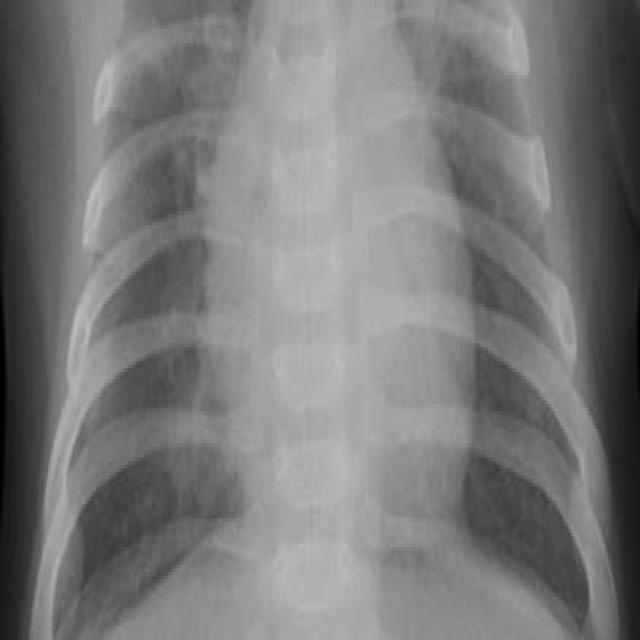low-pneumonia: (157, 275, 231, 515), (159, 1, 242, 176), (406, 1, 490, 153)
